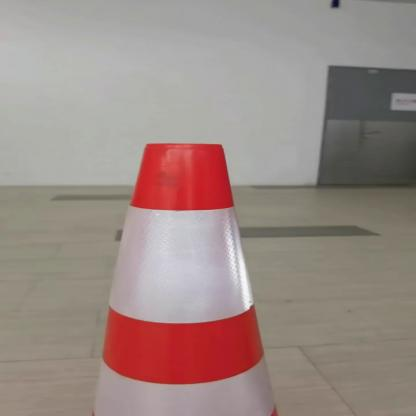cone: (84, 140, 289, 416)
